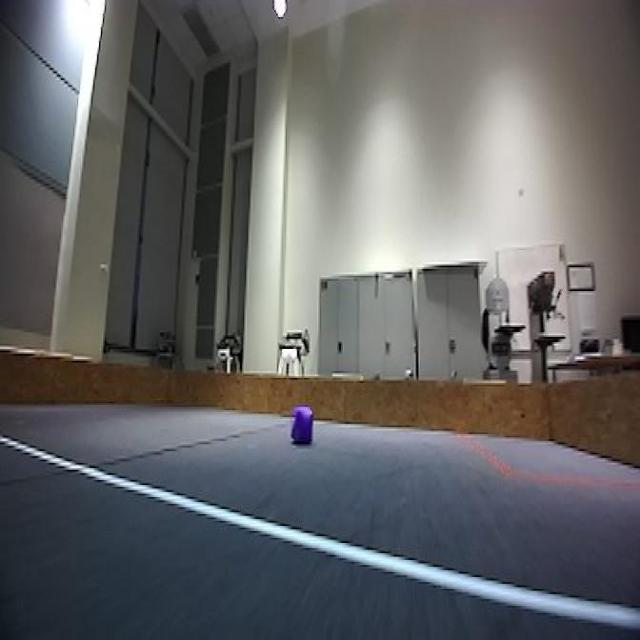frc_cube: (290, 402, 316, 448)
